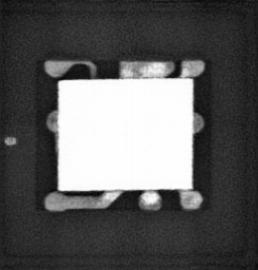DIE_INK: (3, 135, 18, 146)
